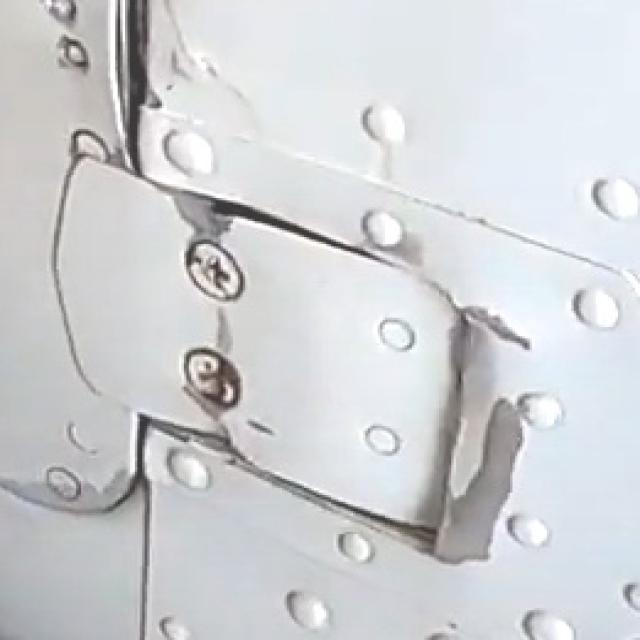crack: (205, 303, 242, 352)
